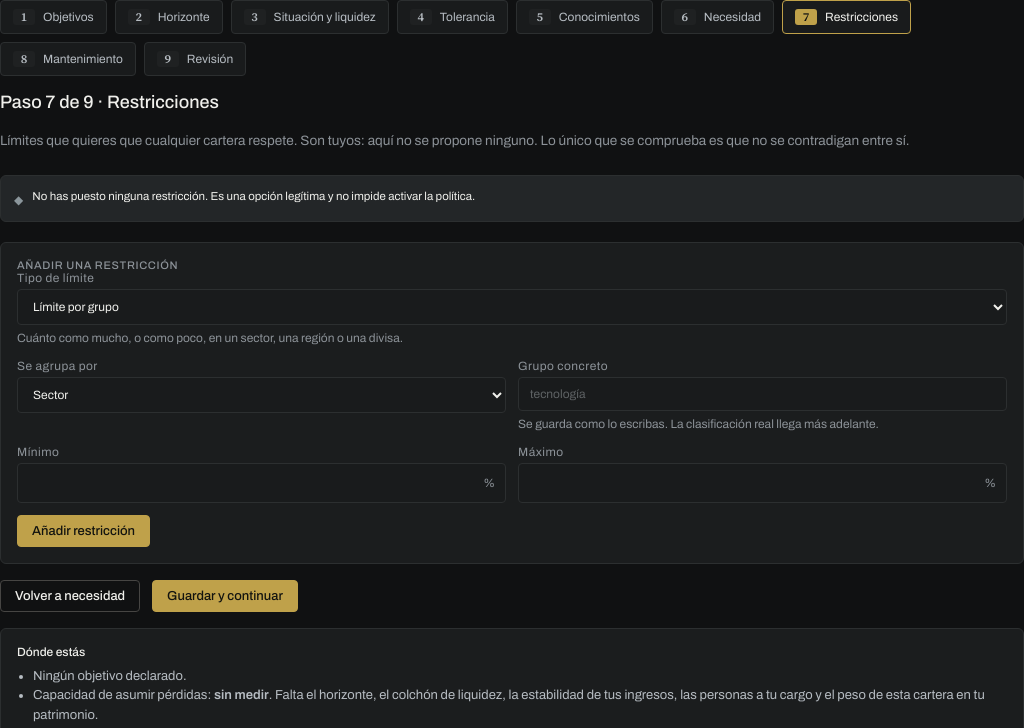
IpsWizard · restricciones › señala dos límites que ninguna cartera puede cumplir a la vez
Type "europa" into the field labelled "Grupo concreto".
click(762, 394); type("europa")  # box [518,377,1007,411]
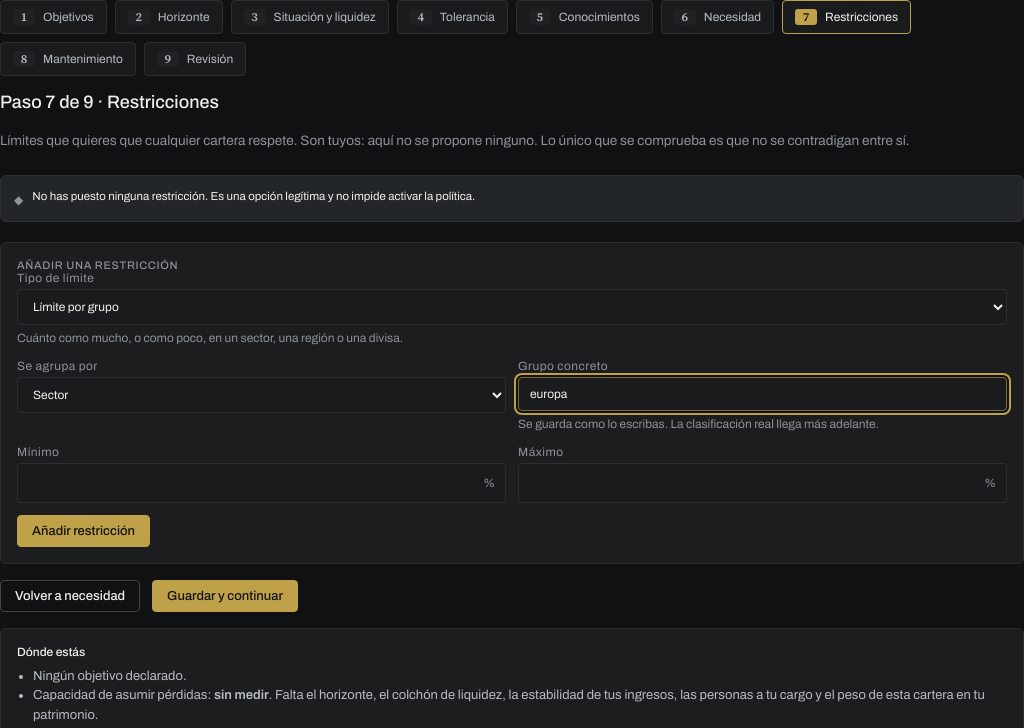
Type "60" into the field labelled "Mínimo".
click(262, 483); type("60")  # box [17,463,506,503]
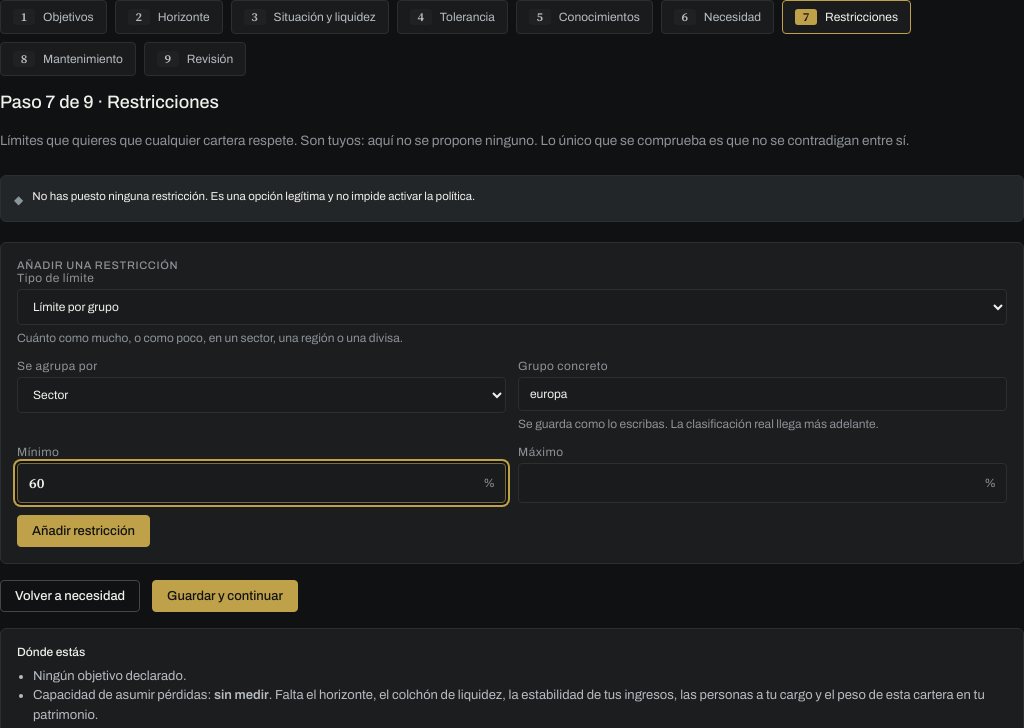
Click the button "Añadir restricción".
click(84, 531)  # box [17,515,150,547]
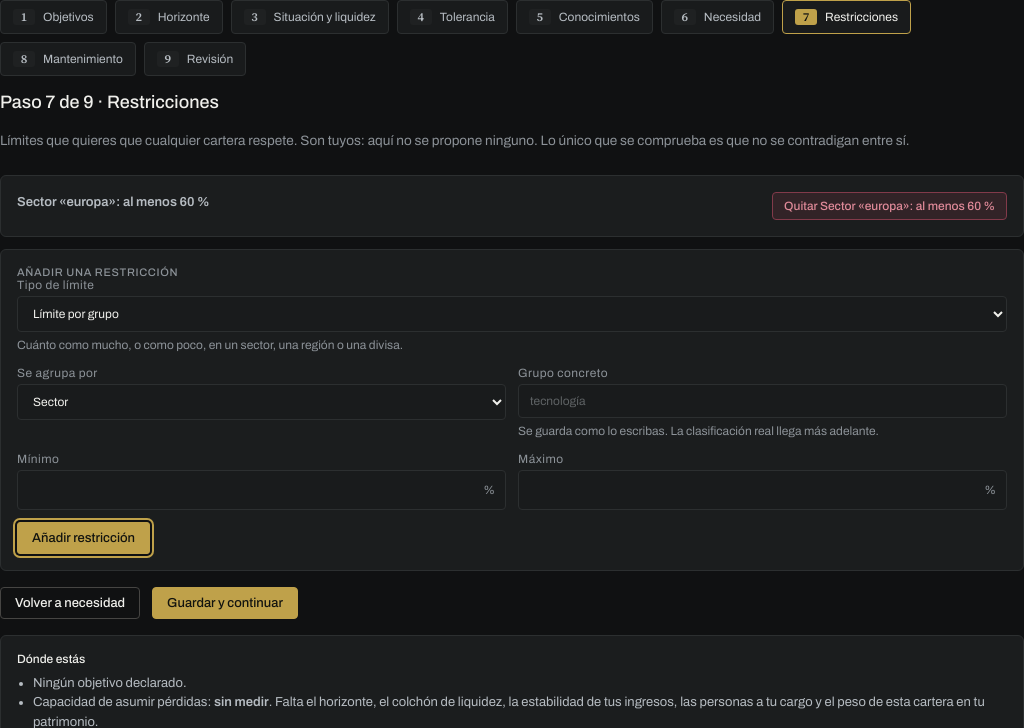
Type "américa" into the field labelled "Grupo concreto".
click(762, 401); type("américa")  # box [518,384,1007,418]
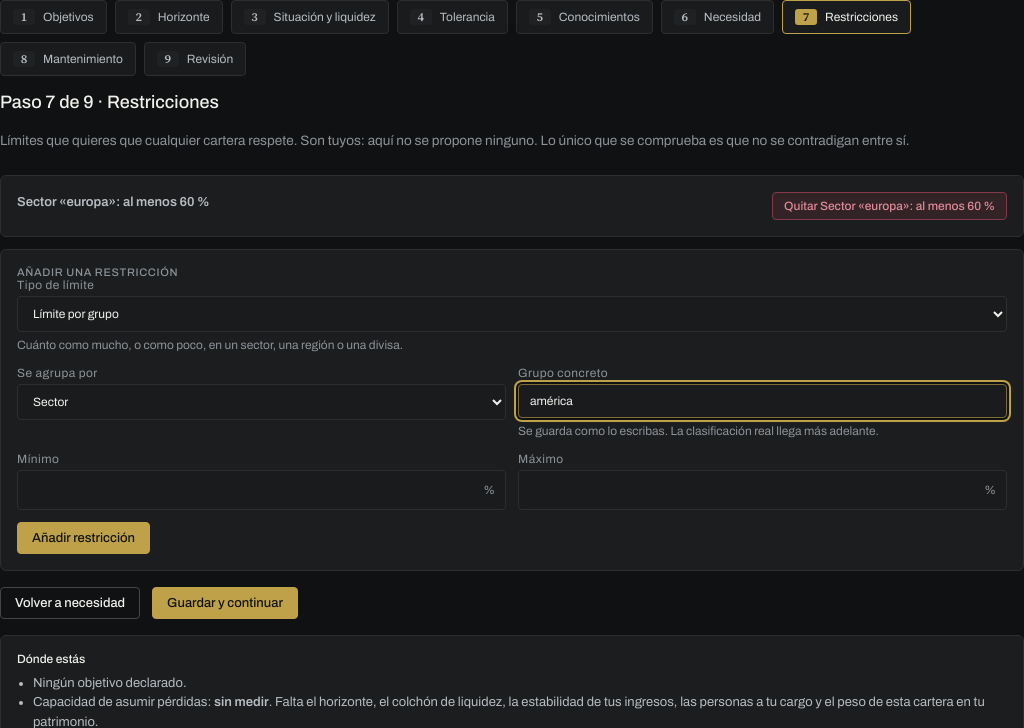
Type "50" into the field labelled "Mínimo".
click(262, 490); type("50")  # box [17,470,506,510]
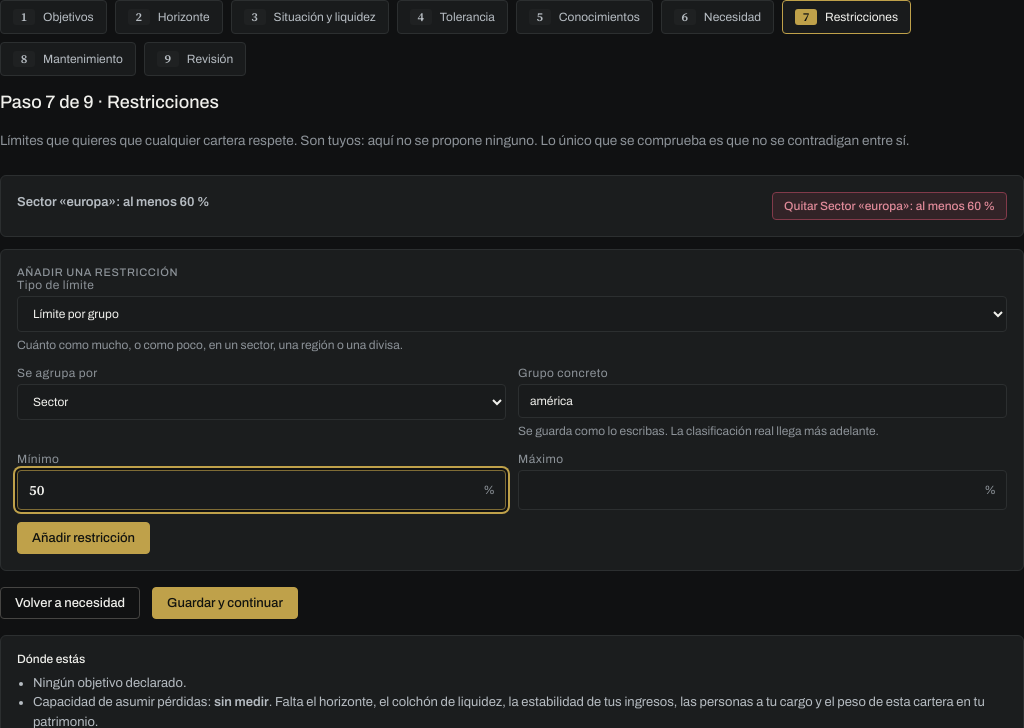
Click the button "Añadir restricción".
click(84, 538)  # box [17,522,150,554]
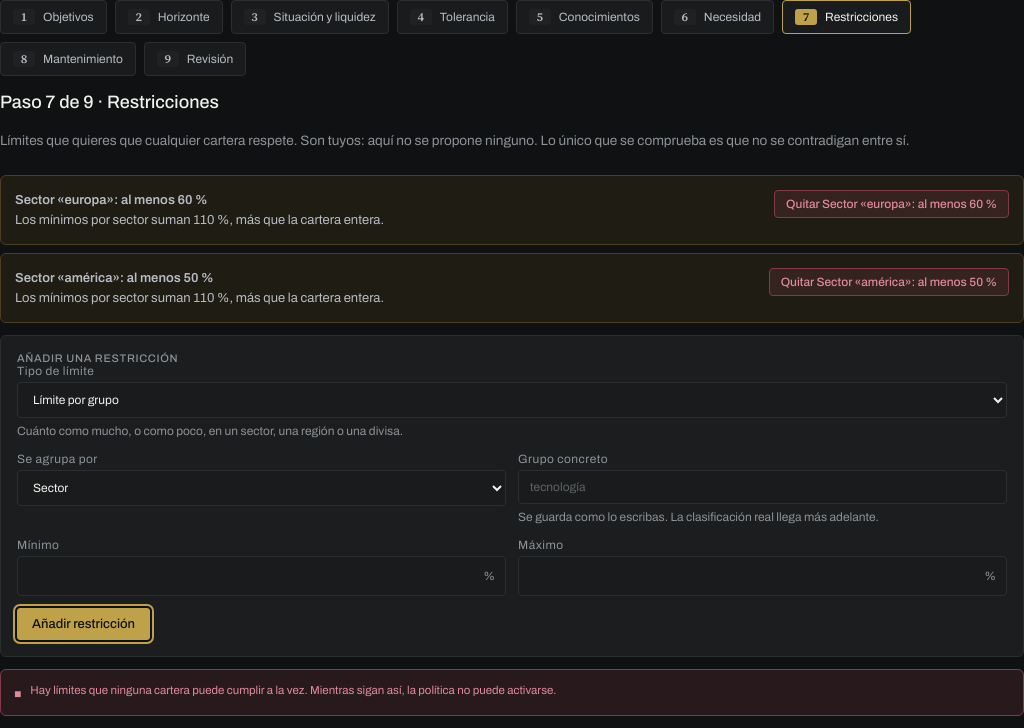
Now the text "Los mínimos por sector suman 110 %, más que la cartera entera." is shown 2 times, box [15,210,384,230]; [15,288,384,308]
Now the text "la política no puede activarse" is shown, box [30,684,557,696]
